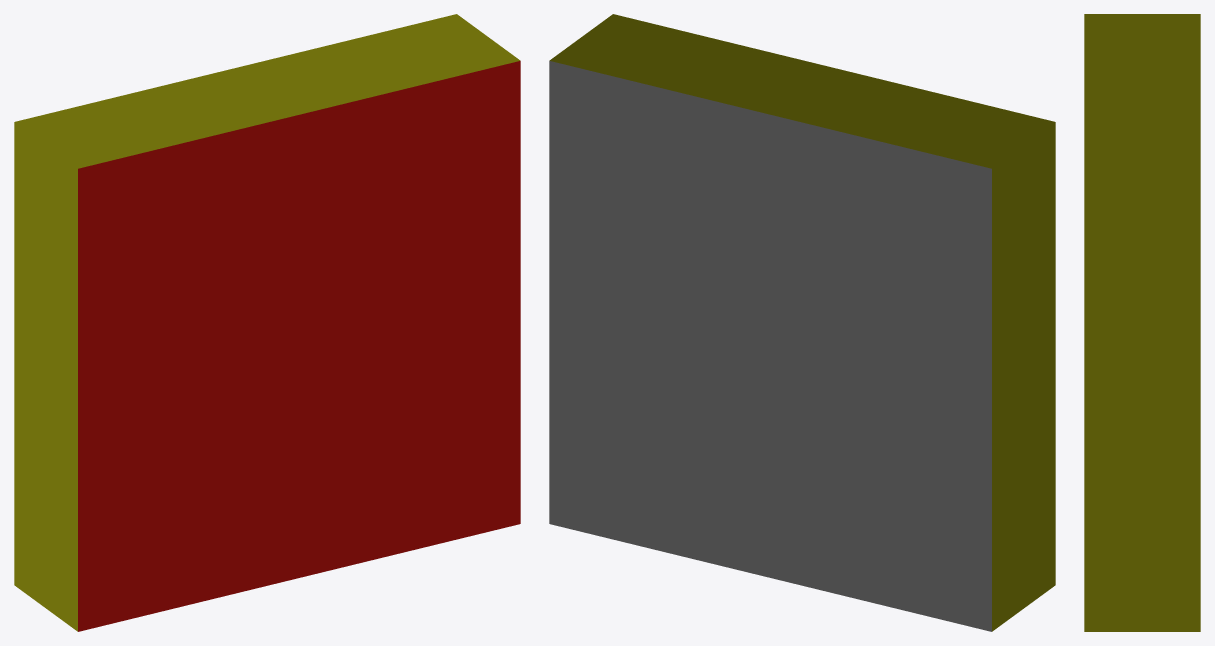
The model's file is idf.obj.
The picture shows the model from 3 angles, left to right: view 1: azimuth 30°, elevation 25°; view 2: azimuth 150°, elevation 25°; view 3: azimuth 270°, elevation 25°; orthographic projection. The views are drawn at different scales.
Size of the model in its own units: 12.19 by 12.19 by 3.05.
